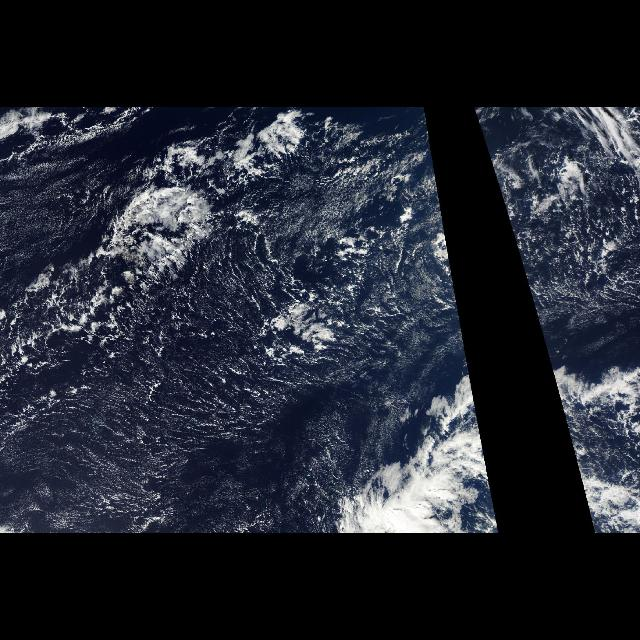Gravel: (13, 144, 460, 514), (486, 145, 634, 325)
Sugar: (4, 274, 338, 532), (1, 139, 128, 267)
